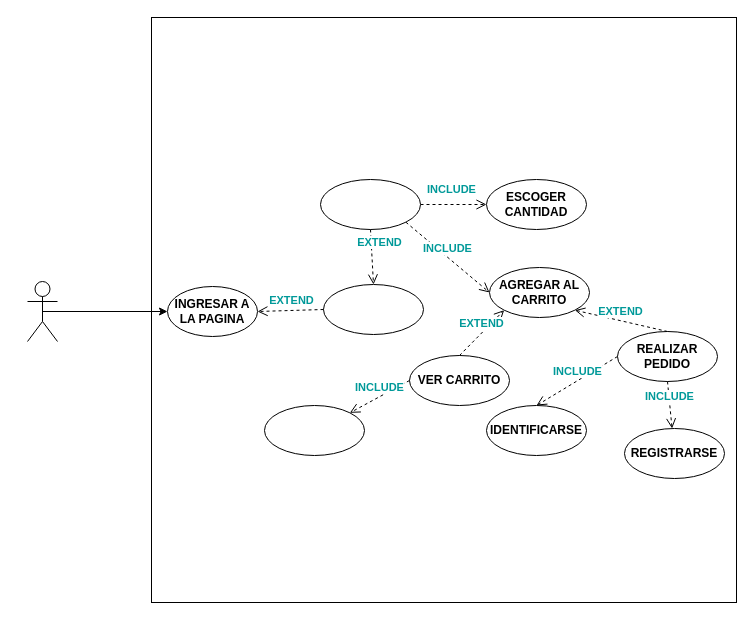
This 754x620 diagram has some shape labels left out. The shapes that lost their labels are listed below. From the top down, each one's centre as x and y in pixels, then its label:
At (370,204): "SELECCIONAR PRODUCTO".
At (42,311): "CLIENTE".
At (373,309): "VER PRODUCTOS".
At (314,430): "MOSTRAR LISTA DE PRODUCTOS".
